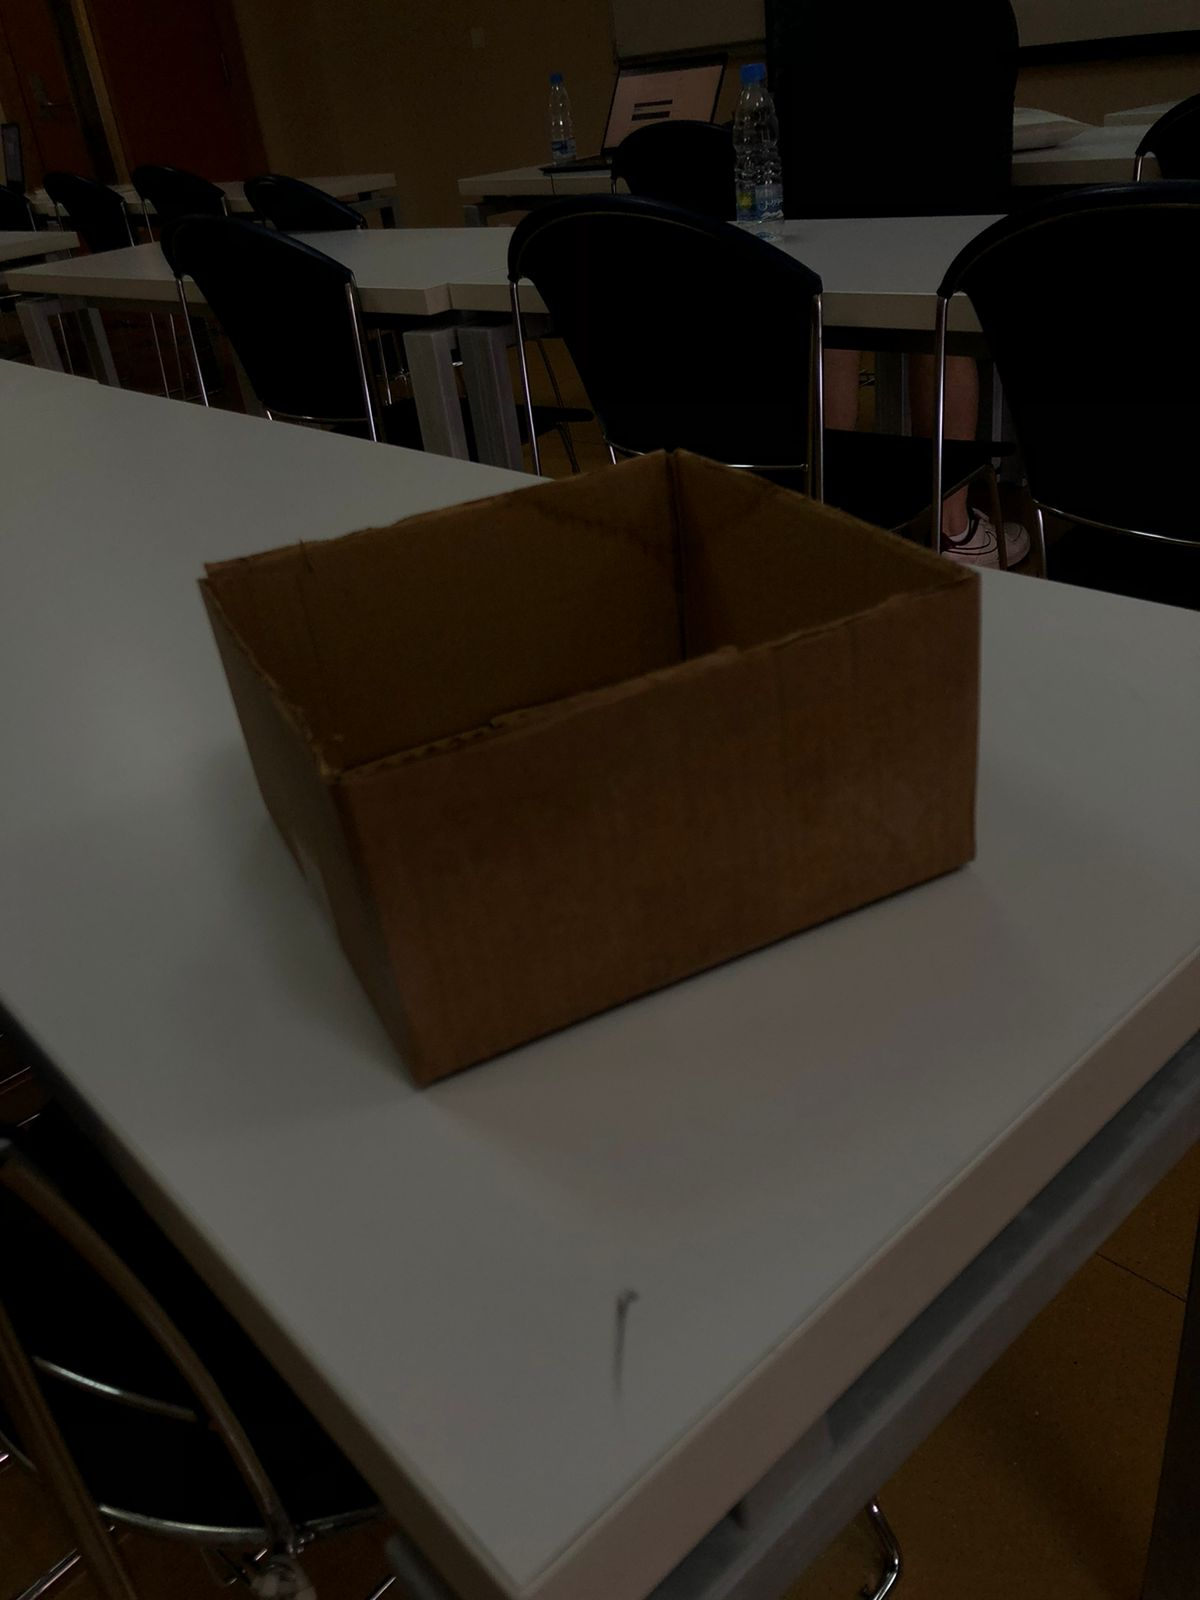CBox: (200, 433, 997, 1094)
